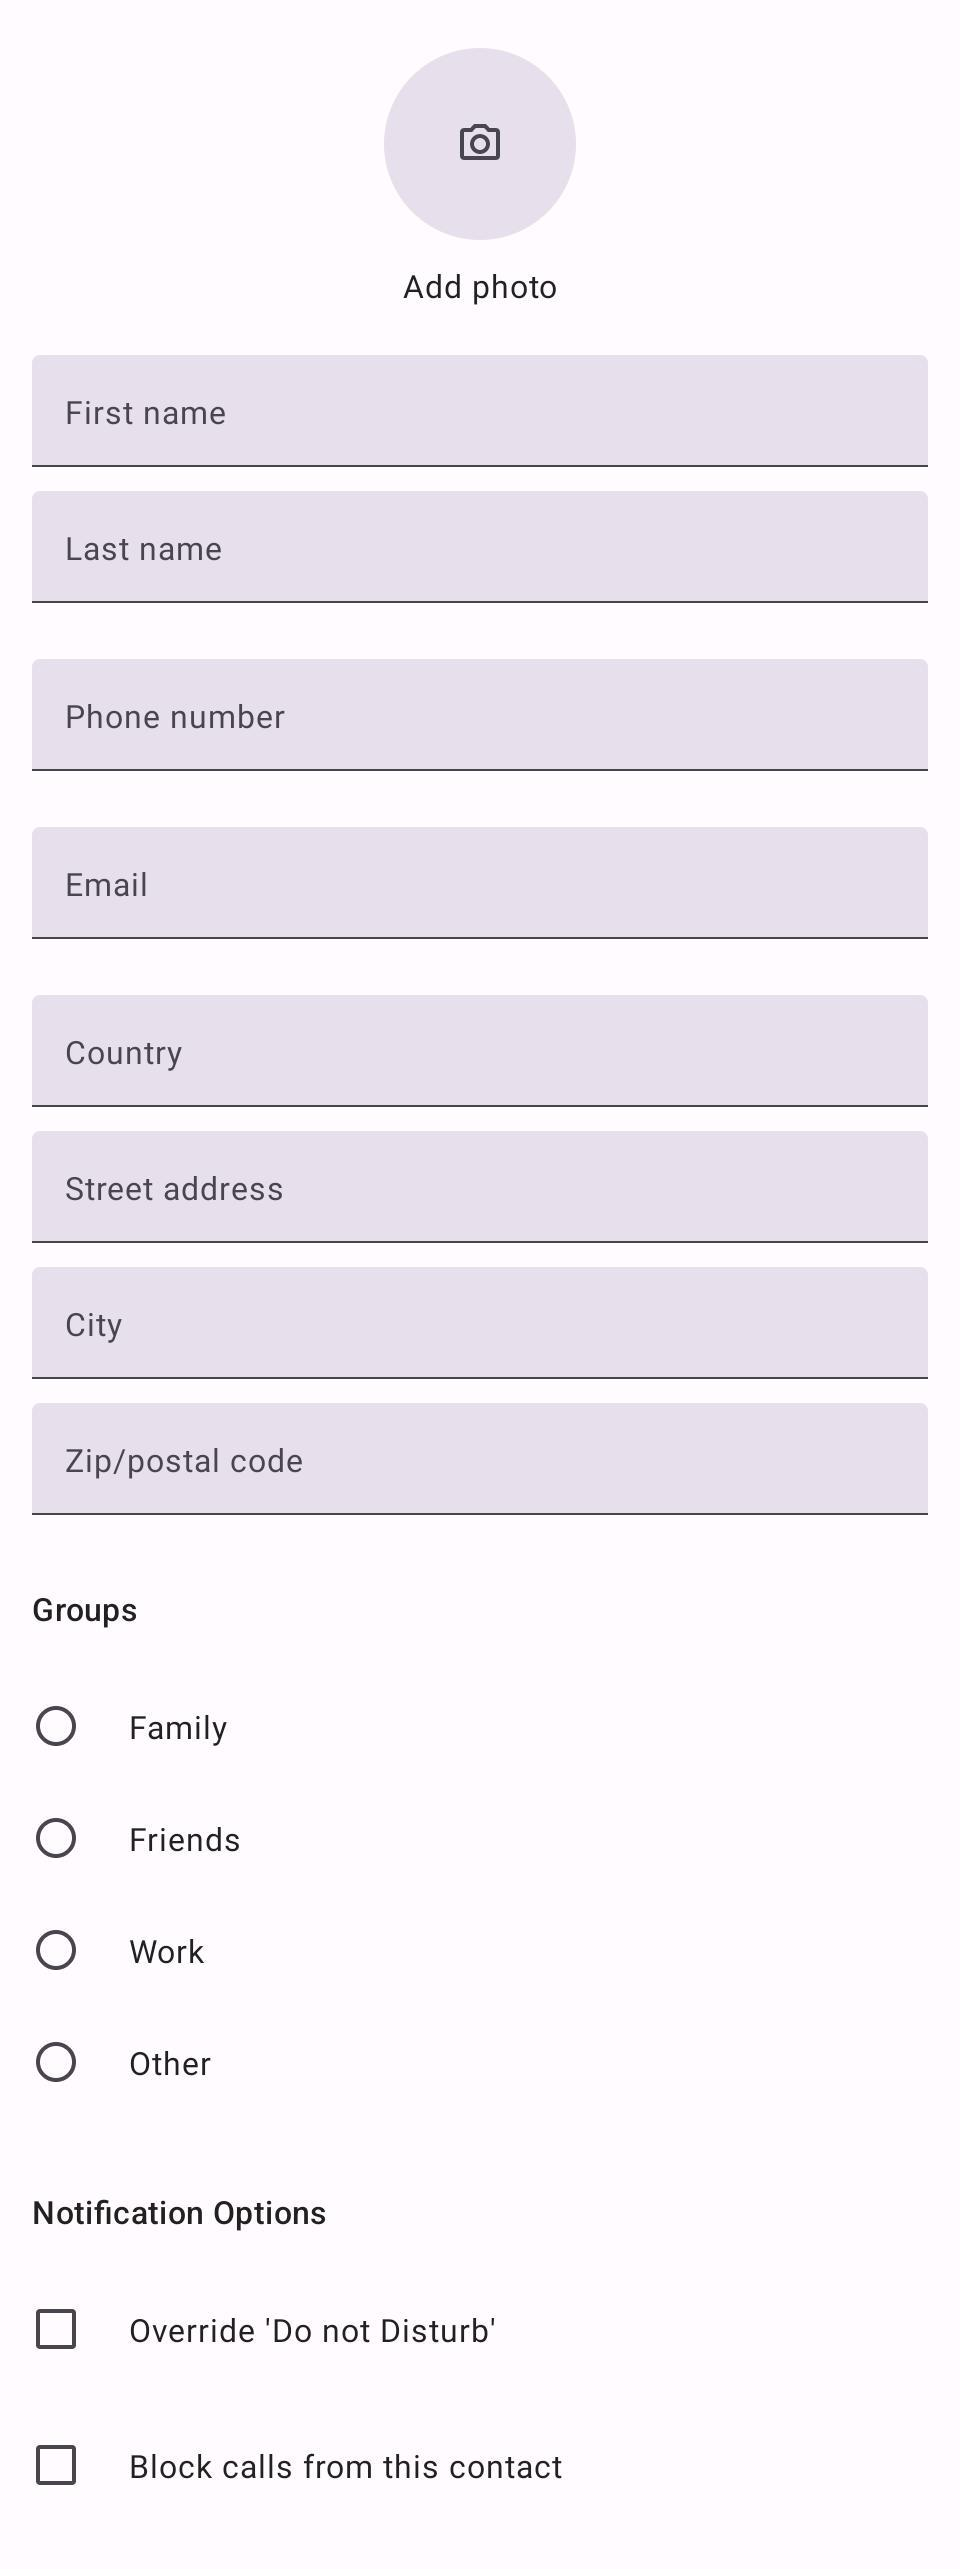checkbox: (34, 2441, 82, 2494), (34, 2305, 80, 2354)
input: (25, 988, 934, 1114), (25, 659, 921, 773), (31, 1263, 927, 1378), (41, 492, 927, 605), (28, 1401, 931, 1511), (41, 354, 921, 464), (28, 1139, 934, 1240), (41, 831, 924, 934)
label: (115, 2428, 578, 2503), (128, 2290, 511, 2361), (28, 2187, 354, 2248), (388, 254, 588, 311), (118, 1694, 247, 1758), (125, 1804, 254, 1861), (25, 1581, 169, 1630), (118, 1919, 228, 1981), (131, 2033, 228, 2099)
radio: (25, 1694, 85, 1760), (26, 1919, 88, 1978), (28, 1814, 85, 1874), (33, 2030, 85, 2096)
